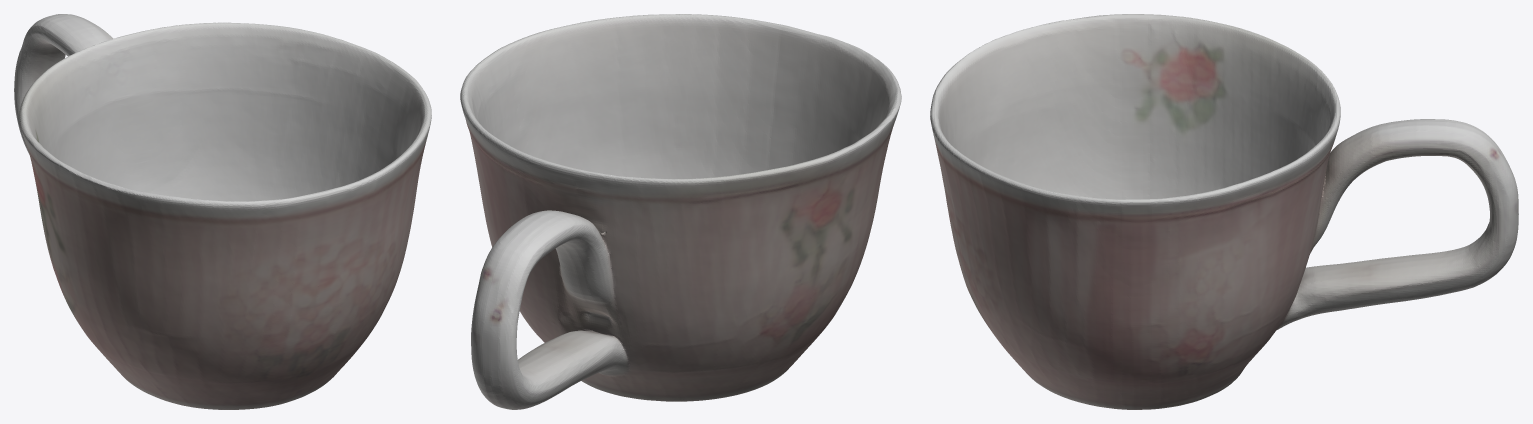
The model's file is twin-teacup.glb.
The picture shows the model from 3 angles, left to right: view 1: azimuth 30°, elevation 25°; view 2: azimuth 150°, elevation 25°; view 3: azimuth 270°, elevation 25°; orthographic projection. The views are drawn at different scales.
Visible parts, largest first — view 1: world; view 2: world; view 3: world.
Part boxes in pixels (x1,y1,x2,y2): world: [14, 14, 431, 409]; world: [460, 14, 901, 409]; world: [930, 14, 1518, 409].
Bounding box in the file's own units: 0.7223 × 0.4888 × 0.9996.
